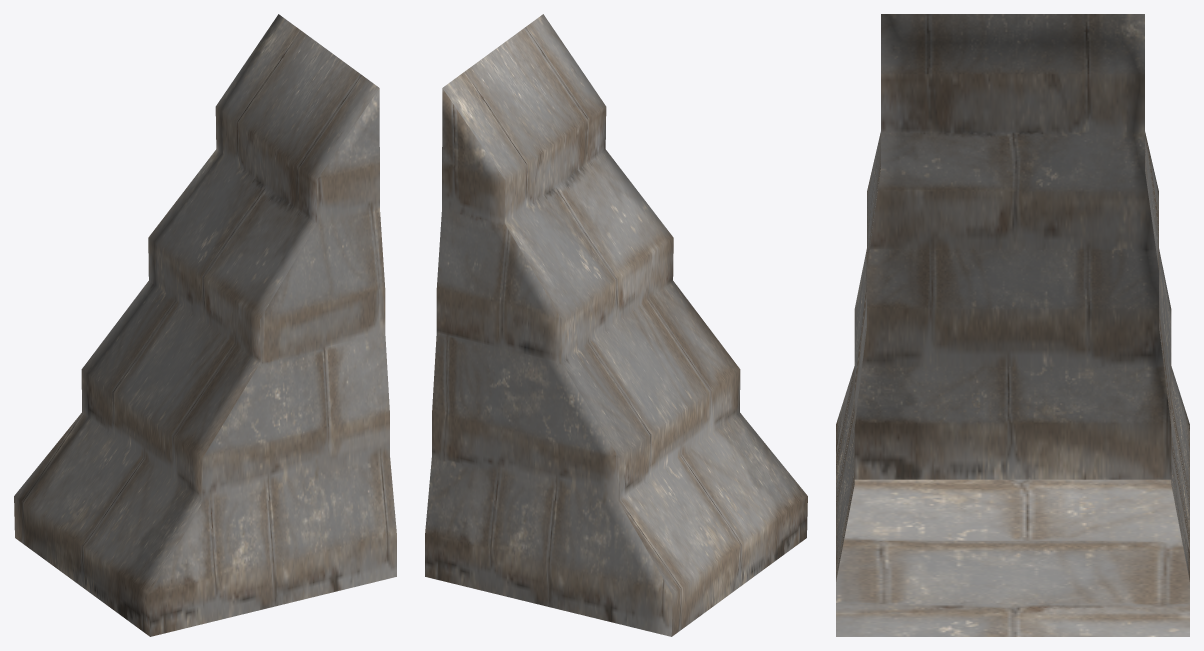
Rendered from SM_RoofColumn01_LOD0.glb.
3 views of the same model, side by side, from view 1: azimuth 30°, elevation 25°; view 2: azimuth 150°, elevation 25°; view 3: azimuth 270°, elevation 25° (orthographic). The views are drawn at different scales.
Visible parts, largest first — view 1: SM_RoofColumn01_LOD0; view 2: SM_RoofColumn01_LOD0; view 3: SM_RoofColumn01_LOD0.
Part boxes in pixels (x1,y1,x2,y2): SM_RoofColumn01_LOD0: (14, 14, 396, 636); SM_RoofColumn01_LOD0: (425, 14, 807, 636); SM_RoofColumn01_LOD0: (836, 14, 1189, 636).
Size of the model in its own units: 0.7987 by 1.47 by 0.7552.
Materials: 1 (1 with a texture image).
